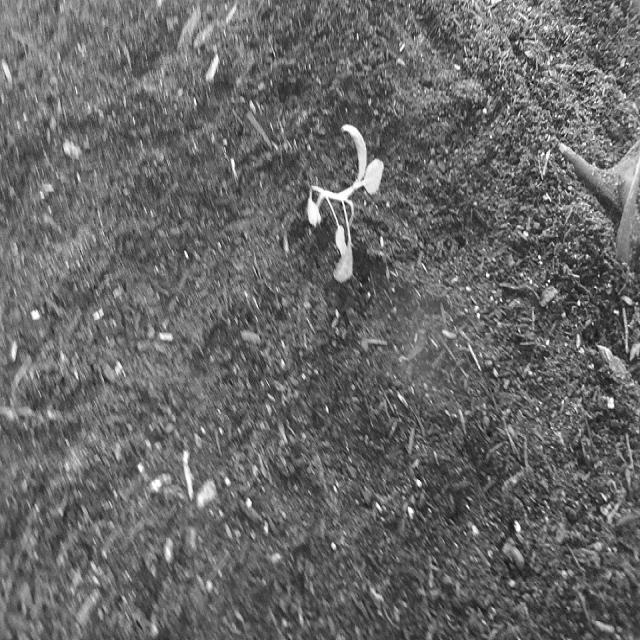Healthy: (304, 118, 386, 290)
